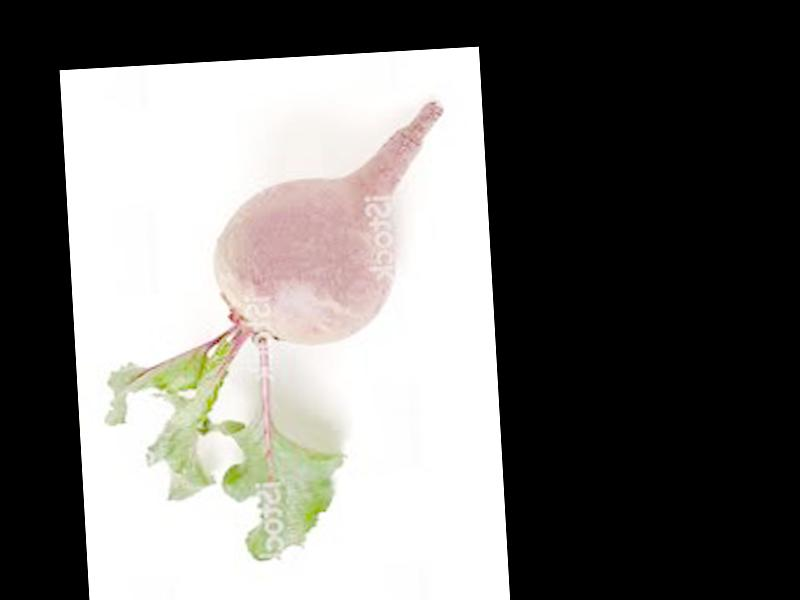Beet: (88, 102, 466, 571)
